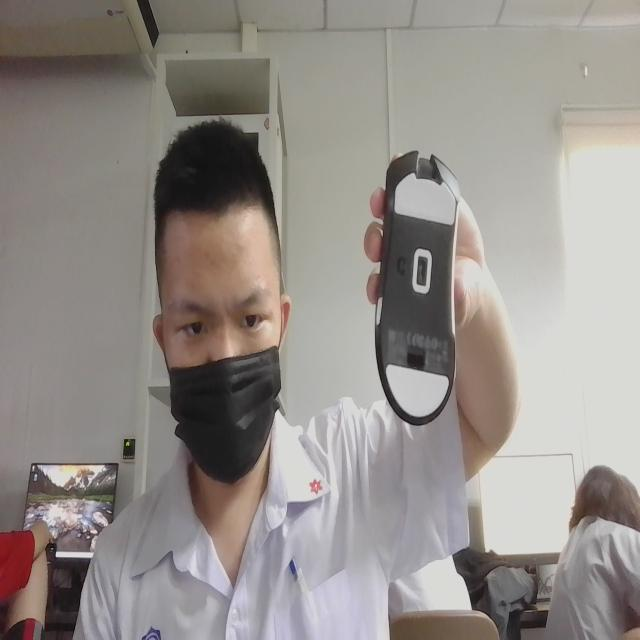mouse: (379, 141, 471, 428)
